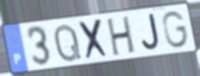3: (27, 24, 51, 68)
G: (161, 10, 190, 50)
H: (106, 14, 137, 58)
J: (141, 12, 161, 52)
Q: (52, 22, 84, 64)
X: (77, 17, 111, 62)
